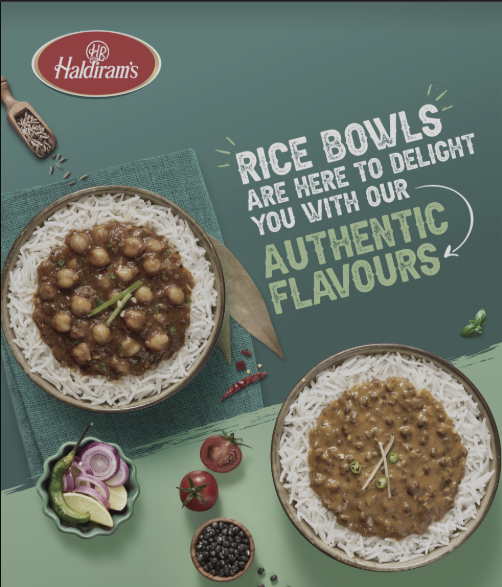Headline: (200, 61, 501, 335)
Product: (0, 176, 286, 422), (265, 330, 501, 587)
logo: (27, 25, 169, 102)
